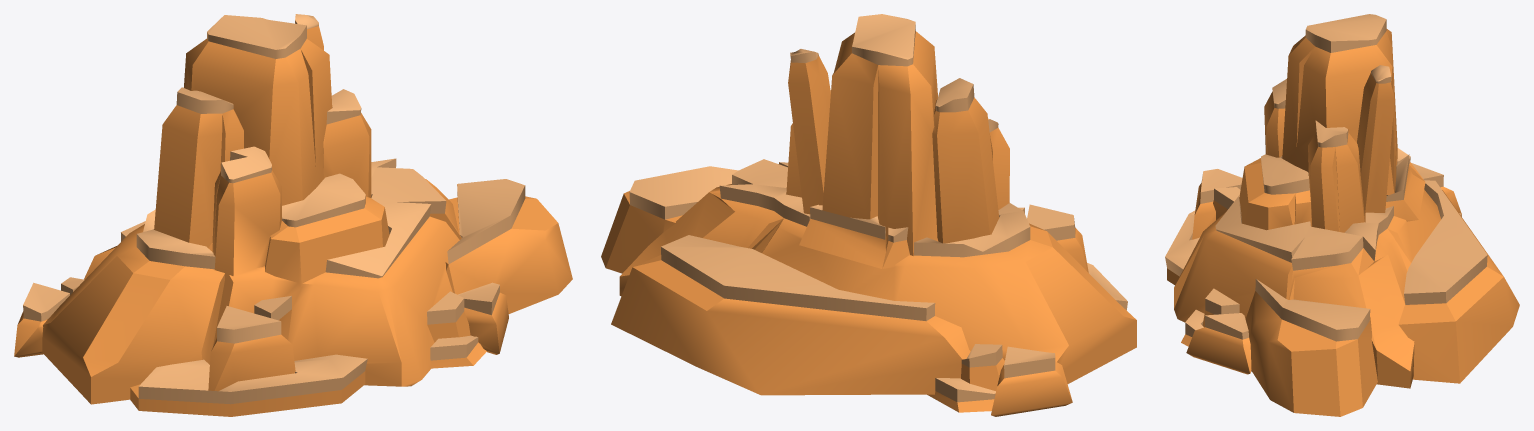
File: Rock_5.fbx
3 views of the same model, side by side, from view 1: azimuth 30°, elevation 25°; view 2: azimuth 150°, elevation 25°; view 3: azimuth 270°, elevation 25° (orthographic). The views are drawn at different scales.
Visible parts, largest first — view 1: Rock_5, Rock_5_Snow; view 2: Rock_5, Rock_5_Snow; view 3: Rock_5, Rock_5_Snow.
Part boxes in pixels (box(x1,y1,x2,y2)): Rock_5: box(14, 26, 572, 416); Rock_5_Snow: box(23, 14, 525, 404); Rock_5: box(601, 31, 1136, 416); Rock_5_Snow: box(629, 14, 1127, 402); Rock_5: box(1167, 29, 1519, 416); Rock_5_Snow: box(1165, 14, 1487, 341).
Bounding box in the file's own units: 762 × 453 × 519.
